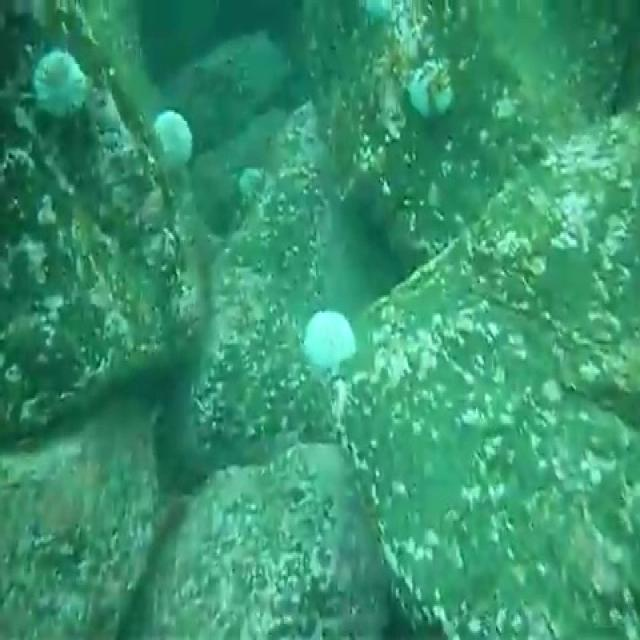Deniz Kestanesi: (29, 46, 98, 128), (301, 304, 364, 379), (154, 102, 202, 180)
